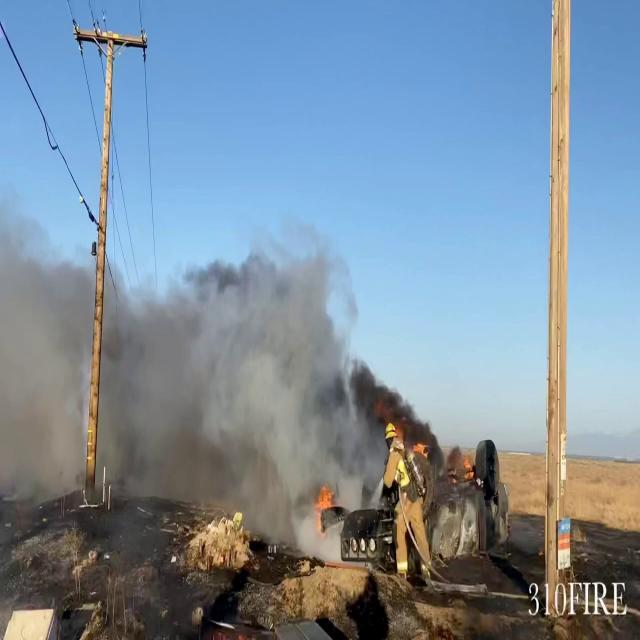Fire: (316, 478, 336, 512)
Smoke: (102, 210, 383, 548), (0, 174, 92, 508)
